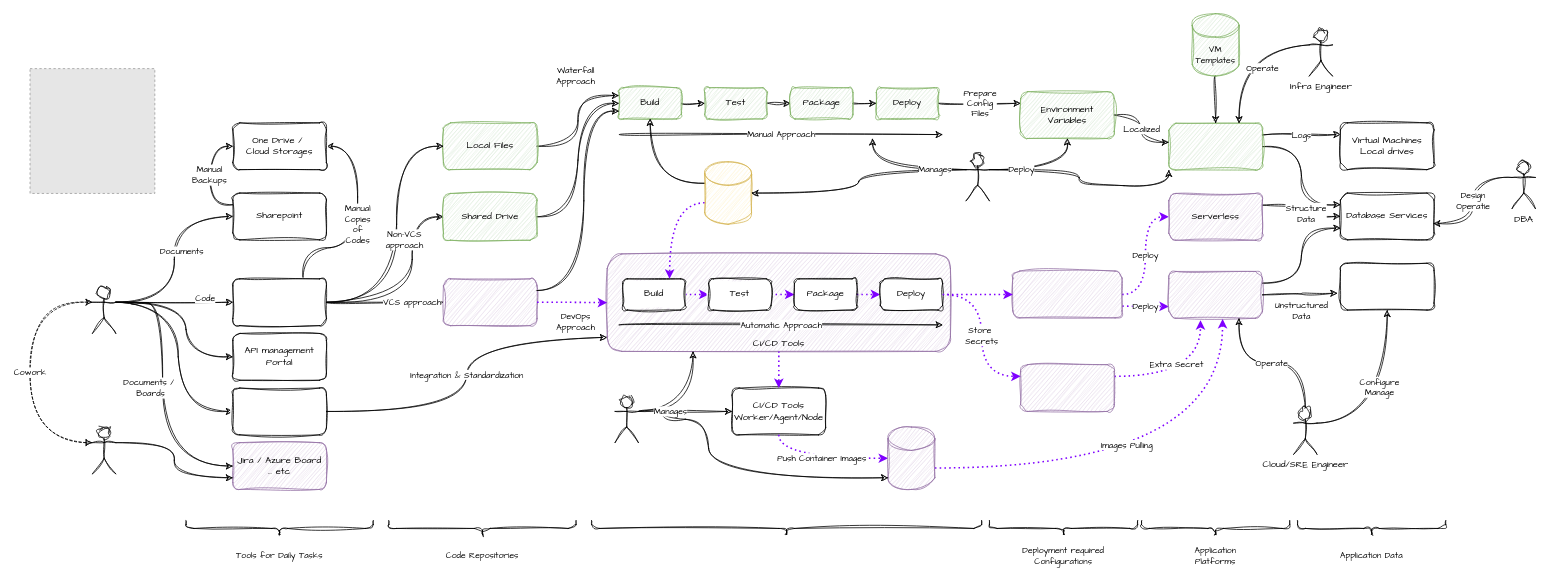
Image size: 1549x581. Some labels were removed from this diagram. Grey dashed boxes stand in for pictures. Here are the shapes that lost their labels. From the top down, the centre of each, then its label:
pixel 1215 146: Virtual Machines/ Bare Metal
pixel 728 192: Artifact Store
pixel 977 177: Software Deployment Engineer
pixel 279 302: IDE
pixel 490 302: Git Repo
pixel 1067 294: Deployment Templates (Argo, IaC, k8s/Yaml)
pixel 1215 294: Container
pixel 1387 286: Cloud Storage
pixel 104 309: Developer
pixel 1067 387: Secret Vault
pixel 279 411: Internal Developer Portal
pixel 626 419: DevOps Engineer
pixel 104 450: Project Manager/Scrum Master
pixel 911 457: Image Registry
pixel 786 528: Application Deployment
